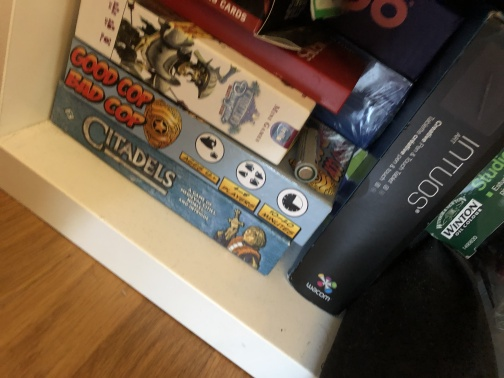battery: (283, 126, 332, 185)
